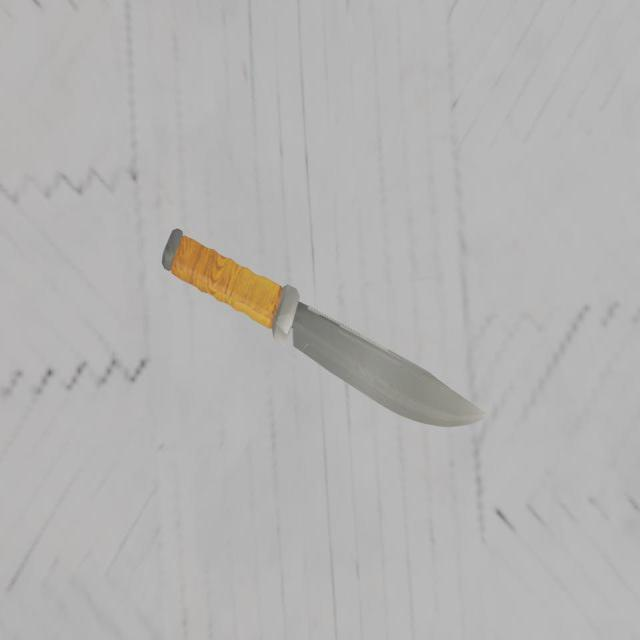knife: (166, 228, 294, 326)
